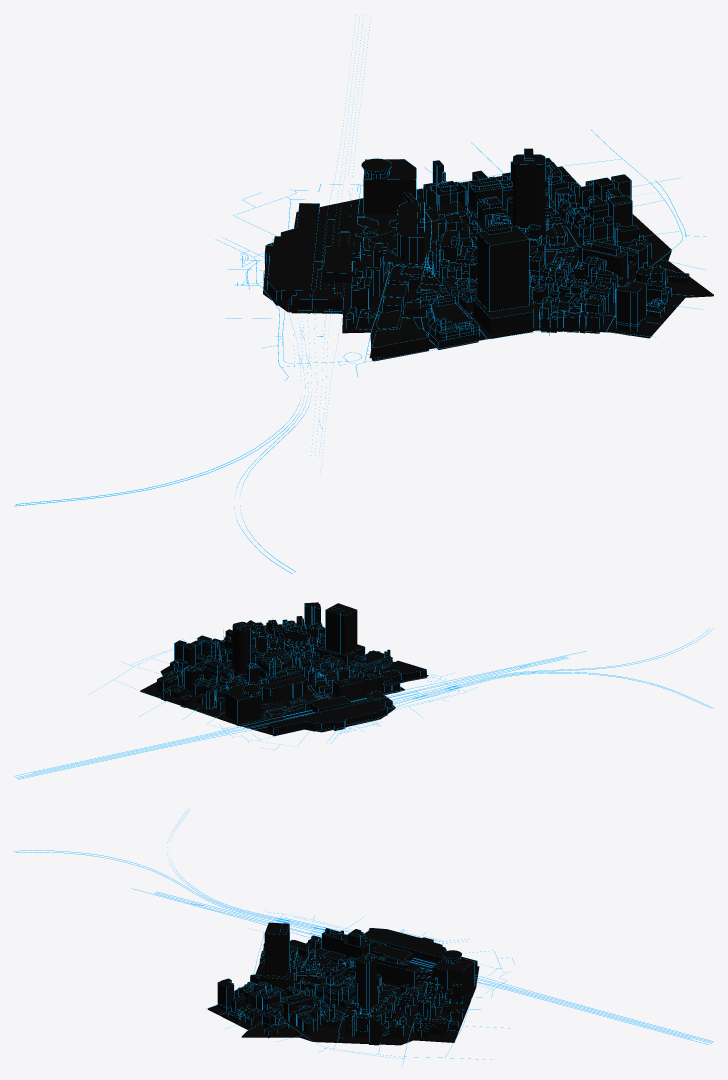
File: Kashiwa_3Dmap.fbx
3 renders of one model, top to bottom at view 1: azimuth 30°, elevation 25°; view 2: azimuth 150°, elevation 25°; view 3: azimuth 270°, elevation 25°, orthographic. The views are drawn at different scales.
Parts seen in each view (by area): view 1: 3D_mesh, plane, 3D_wier, Ways:highway, main_street, Ways:railway, space, deck01; view 2: 3D_mesh, Ways:railway, 3D_wier, plane, Ways:highway, deck01, space, main_street; view 3: 3D_mesh, Ways:railway, 3D_wier, plane, main_street, Ways:highway, space.
Boxes of the visible parts, box(x1,y1,x2,y2) form: 3D_mesh: box(265, 148, 689, 361); plane: box(263, 166, 713, 359); 3D_wier: box(264, 149, 688, 358); Ways:highway: box(215, 130, 705, 380); main_street: box(369, 174, 707, 357); Ways:railway: box(14, 14, 370, 573); space: box(370, 177, 707, 358); deck01: box(355, 213, 426, 276); 3D_mesh: box(157, 602, 426, 736); Ways:railway: box(14, 628, 713, 779); 3D_wier: box(157, 602, 426, 733); plane: box(140, 620, 427, 735); Ways:highway: box(88, 618, 476, 749); deck01: box(261, 690, 336, 717); space: box(149, 623, 428, 714); main_street: box(146, 621, 428, 714); 3D_mesh: box(217, 922, 477, 1045); Ways:railway: box(14, 809, 713, 1044); 3D_wier: box(220, 922, 477, 1041); plane: box(207, 942, 479, 1045); main_street: box(211, 952, 466, 1043); Ways:highway: box(205, 910, 514, 1065); space: box(214, 955, 464, 1043).
Bounding box in the file's own units: 104741 × 11130 × 120635.
